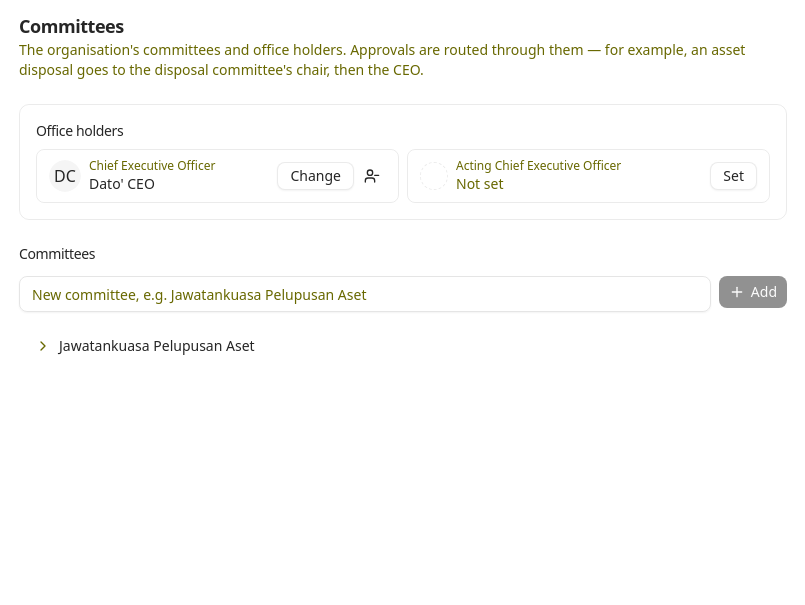
Test case: Committees › lets a global admin add committees and edit members, and warns when there is no chair
The image size is (805, 605).
Type "Jawatankuasa Audit" into the field with placeholder "New committee, e.g. Jawatankuasa Pelupusan Aset" at (365, 294), box [19, 276, 711, 312]
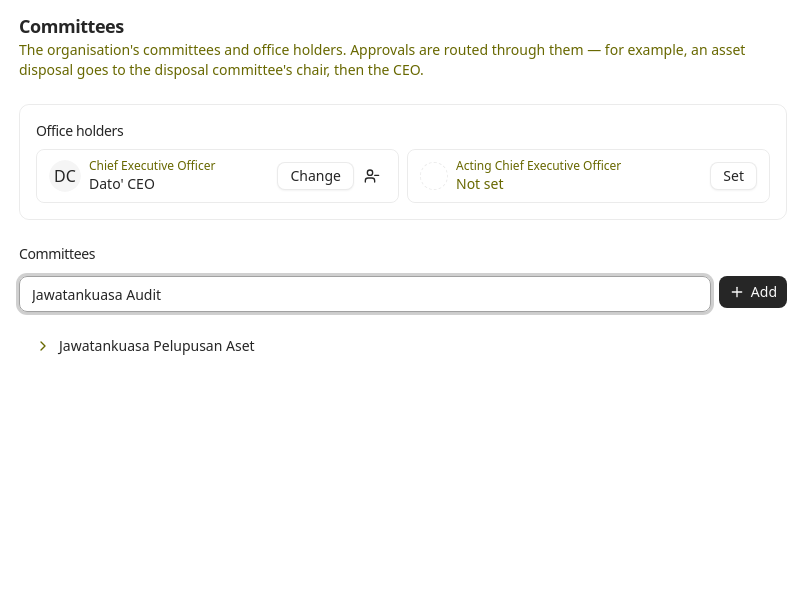
Click the button "Add" at (753, 292), box [719, 276, 787, 308]
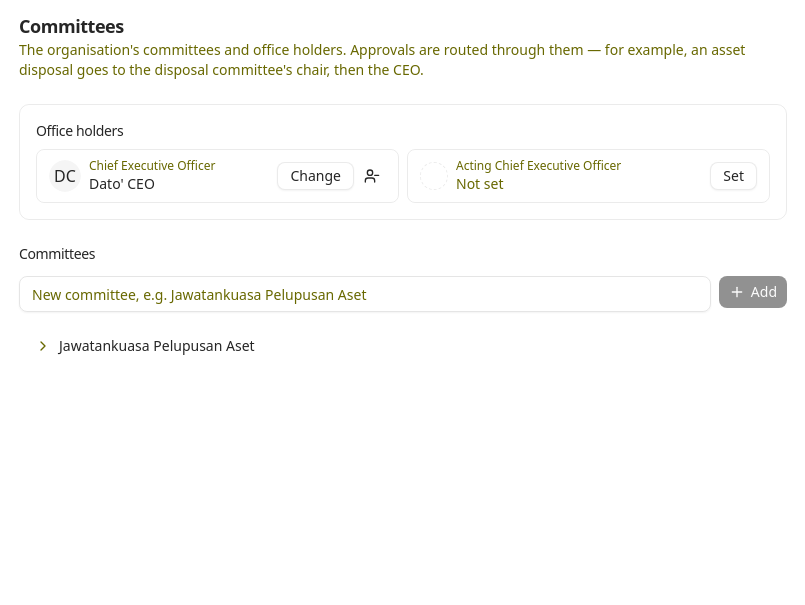
Click the button "Jawatankuasa Pelupusan Aset" at (157, 346), box [19, 324, 787, 368]
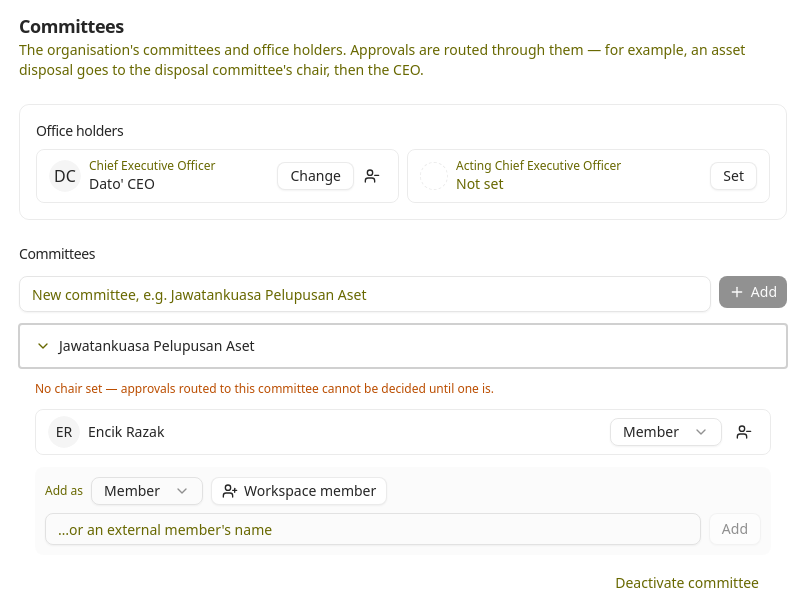
Result: the text "No chair set" is shown at [35, 380, 494, 397]
Result: the button named "Remove Encik Razak" is shown at [730, 418, 758, 446]
